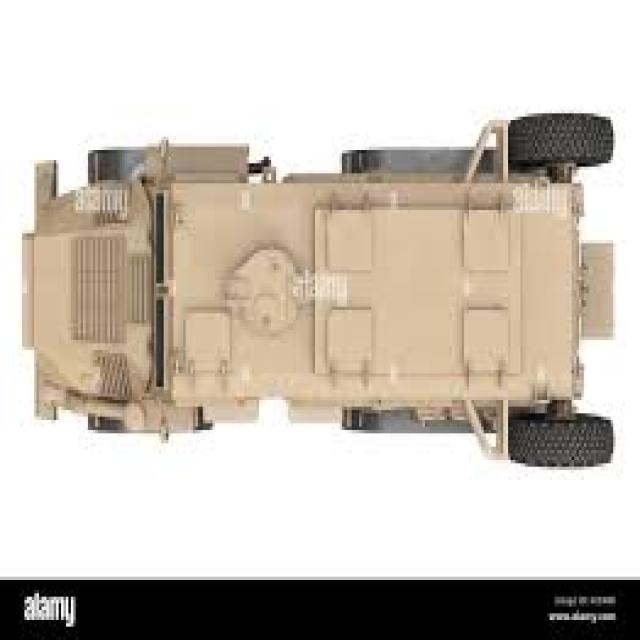truck: (19, 108, 618, 473)
